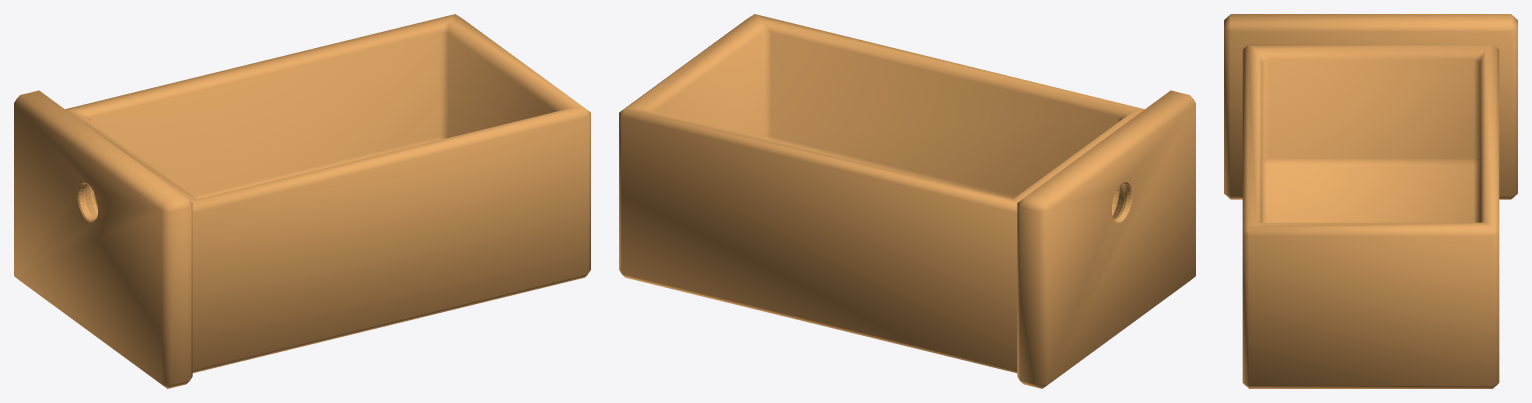
File: torontoDeskDrawerBottom.fbx
The picture shows the model from 3 angles, left to right: view 1: azimuth 30°, elevation 25°; view 2: azimuth 150°, elevation 25°; view 3: azimuth 270°, elevation 25°; orthographic projection. The views are drawn at different scales.
Parts seen in each view (by area): view 1: torontoDeskDrawerBottom; view 2: torontoDeskDrawerBottom; view 3: torontoDeskDrawerBottom.
Boxes of the visible parts, x1,y1,x2,y2 form: torontoDeskDrawerBottom: (14,14,590,388); torontoDeskDrawerBottom: (619,14,1195,388); torontoDeskDrawerBottom: (1224,14,1517,388).
Bounding box in the file's own units: 434 × 176 × 264.
